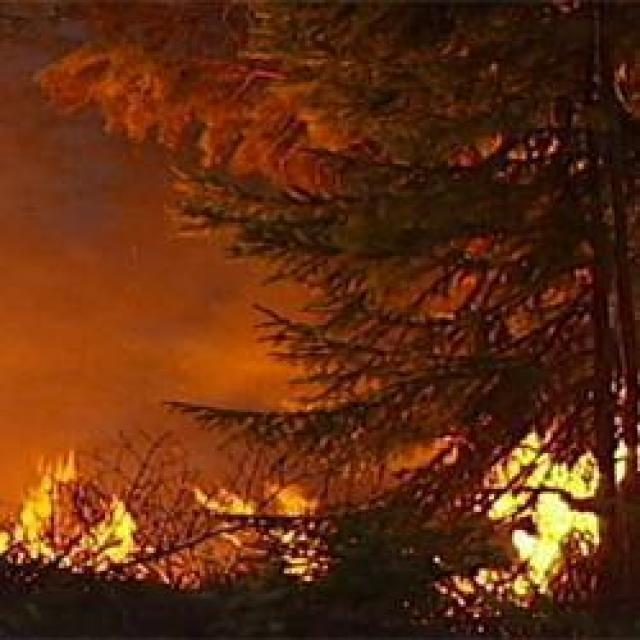Fire: (2, 447, 364, 602), (430, 408, 640, 625), (0, 455, 168, 594)
